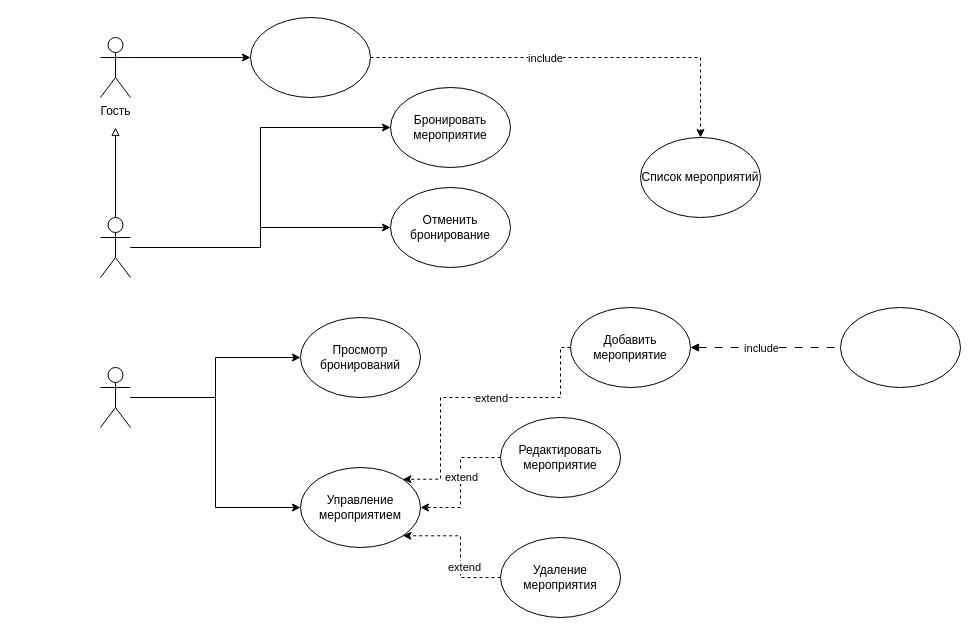
The diagram is 978 pixels wide and 635 high, and some of its shapes have lost their labels. Here are the shapes that lost their labels. From the top down, the centre of each, then its label:
(x=310, y=57): Просмотр доступных мероприятий
(x=115, y=247): Зарегистрированный пользователь
(x=900, y=347): Бронирует Зал
(x=115, y=397): Администратор
